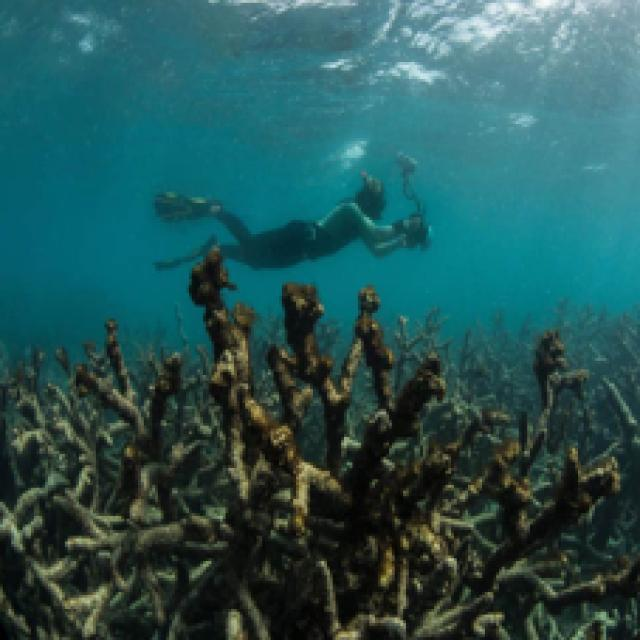Dead Coral: (0, 251, 623, 640)
